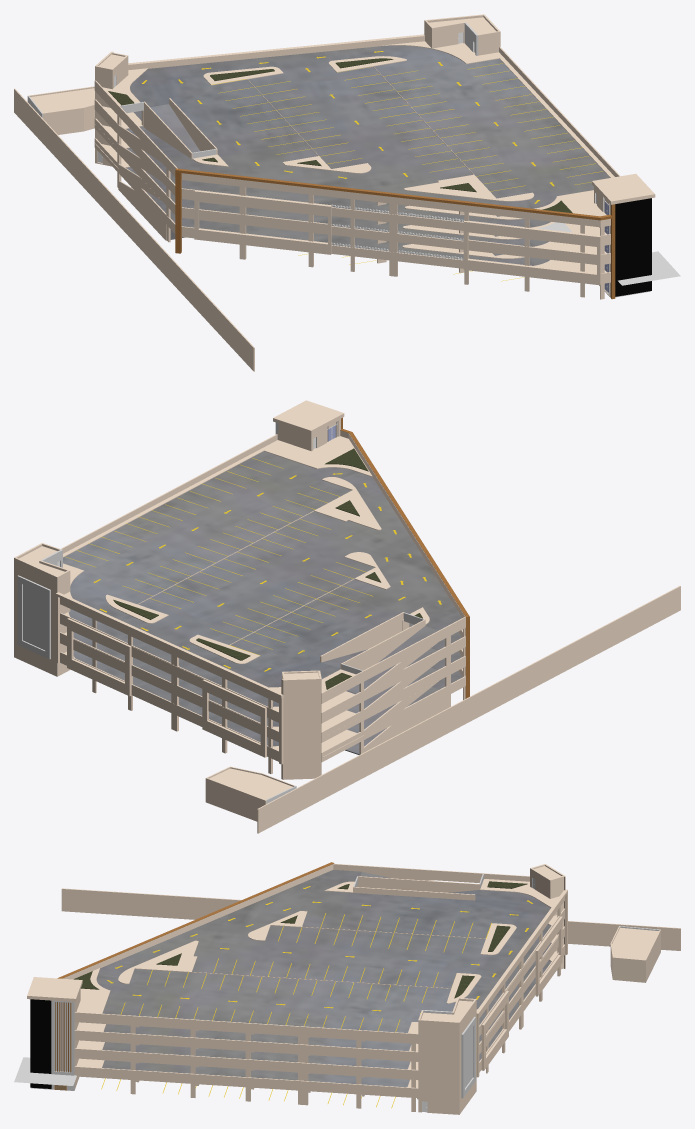
Rendered from PARKING.glb.
3 views of the same model, one above another, from view 1: azimuth 30°, elevation 25°; view 2: azimuth 150°, elevation 25°; view 3: azimuth 270°, elevation 25° (orthographic). The views are drawn at different scales.
Parts seen in each view (by area): view 1: Floor 0.37 [161837], Floor 4343434 [210458], Basic Wall Generic - 200mm - Filled [171866], Walls 17 Walls 17 [255678], Walls 15 Walls 15 [251332], Walls 16 Walls 15 [254947], Air Terminals 1 Air Terminals 1 [268889], Basic Wall Generic - 200mm - Filled [164344], Walls 14 Walls 14 [249003], Floor 0.37 [165990], wewewe wewewe [186611], Floor 0.37 [161729] (+25 smaller); view 2: Floor 0.37 [161837], Basic Wall Generic - 200mm - Filled [171866], Floor 4343434 [210458], Walls 20 Walls 13 [261289], Basic Wall Generic - 300mm [161631], Basic Wall Generic - 200mm - Filled [165386], Basic Wall Generic - 200mm - Filled [167806], Basic Wall Generic - 200mm - Filled [166886], Basic Wall Generic - 200mm - Filled [164645], Basic Wall Generic - 300mm [161573], Floor 0.37 [165990], wewewe wewewe [186611] (+19 smaller); view 3: Floor 0.37 [161837], Basic Wall Generic - 200mm - Filled [171866], Floor 4343434 [210458], Basic Wall Generic - 200mm - Filled [168252], Basic Wall Generic - 200mm - Filled [164828], Basic Wall Generic - 200mm - Filled [167320], Basic Wall Generic - 200mm - Filled [165871], Basic Wall Generic - 300mm [161566], Floor 0.37 [165990], Floor 0.37 [161729], Floor 0.37 [165934], Walls 20 Walls 13 [261289] (+25 smaller).
Part boxes in pixels (x1=…): Floor 0.37 [161837]: x1=130, y1=45, x2=609, y2=208; Floor 4343434 [210458]: x1=103, y1=41, x2=614, y2=216; Basic Wall Generic - 200mm - Filled [171866]: x1=14, y1=88, x2=254, y2=371; Walls 17 Walls 17 [255678]: x1=199, y1=207, x2=596, y2=264; Walls 15 Walls 15 [251332]: x1=463, y1=221, x2=600, y2=285; Walls 16 Walls 15 [254947]: x1=194, y1=190, x2=331, y2=254; Air Terminals 1 Air Terminals 1 [268889]: x1=615, y1=198, x2=651, y2=296; Basic Wall Generic - 200mm - Filled [164344]: x1=181, y1=173, x2=598, y2=226; Walls 14 Walls 14 [249003]: x1=175, y1=168, x2=615, y2=299; Floor 0.37 [165990]: x1=126, y1=111, x2=550, y2=227; wewewe wewewe [186611]: x1=117, y1=110, x2=604, y2=299; Floor 0.37 [161729]: x1=126, y1=167, x2=550, y2=265; Floor 0.37 [161837]: x1=63, y1=451, x2=461, y2=687; Basic Wall Generic - 200mm - Filled [171866]: x1=257, y1=586, x2=680, y2=833; Floor 4343434 [210458]: x1=63, y1=436, x2=429, y2=692; Walls 20 Walls 13 [261289]: x1=55, y1=592, x2=283, y2=764; Basic Wall Generic - 300mm [161631]: x1=281, y1=678, x2=319, y2=779; Basic Wall Generic - 200mm - Filled [165386]: x1=321, y1=676, x2=465, y2=762; Basic Wall Generic - 200mm - Filled [167806]: x1=321, y1=636, x2=465, y2=723; Basic Wall Generic - 200mm - Filled [166886]: x1=321, y1=656, x2=465, y2=742; Basic Wall Generic - 200mm - Filled [164645]: x1=58, y1=592, x2=281, y2=703; Basic Wall Generic - 300mm [161573]: x1=15, y1=557, x2=56, y2=675; Floor 0.37 [165990]: x1=68, y1=609, x2=461, y2=706; wewewe wewewe [186611]: x1=92, y1=619, x2=465, y2=773; Floor 0.37 [161837]: x1=96, y1=870, x2=550, y2=1032; Basic Wall Generic - 200mm - Filled [171866]: x1=61, y1=888, x2=680, y2=950; Floor 4343434 [210458]: x1=76, y1=879, x2=559, y2=1033; Basic Wall Generic - 200mm - Filled [168252]: x1=74, y1=1030, x2=418, y2=1061; Basic Wall Generic - 200mm - Filled [164828]: x1=74, y1=1012, x2=418, y2=1043; Basic Wall Generic - 200mm - Filled [167320]: x1=74, y1=1048, x2=418, y2=1079; Basic Wall Generic - 200mm - Filled [165871]: x1=74, y1=1066, x2=418, y2=1098; Basic Wall Generic - 300mm [161566]: x1=420, y1=1019, x2=459, y2=1114; Floor 0.37 [165990]: x1=103, y1=924, x2=550, y2=1050; Floor 0.37 [161729]: x1=102, y1=960, x2=551, y2=1087; Floor 0.37 [165934]: x1=102, y1=943, x2=551, y2=1069; Walls 20 Walls 13 [261289]: x1=476, y1=889, x2=567, y2=1077.
Size of what is drawn, in the model's own units: 78.08 by 17.4 by 108.
10 materials, 5 textured.
